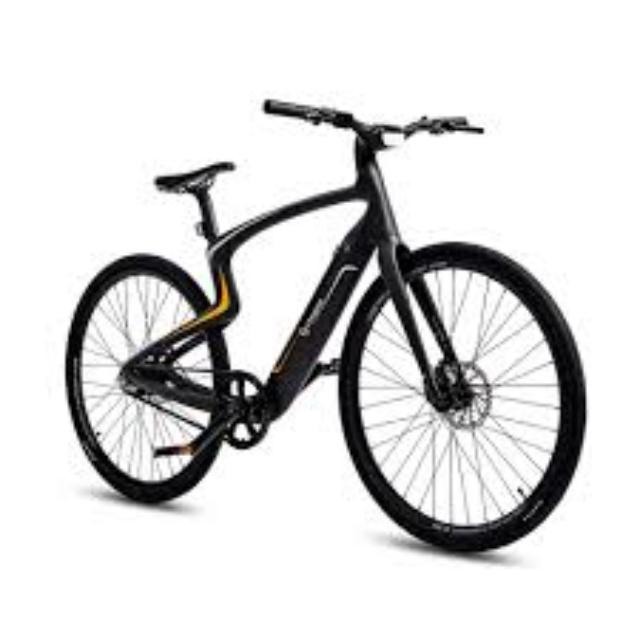obstacle: (58, 86, 602, 562)
